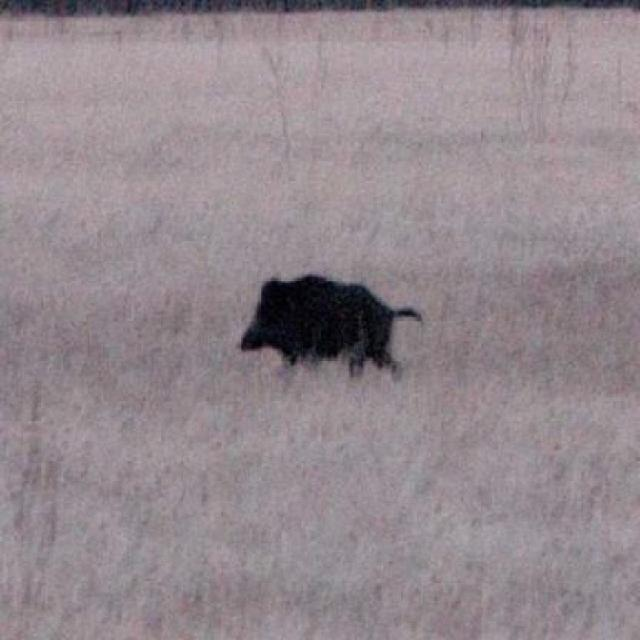Boar: (223, 283, 442, 391)
